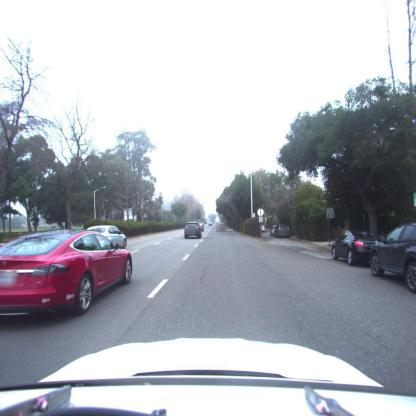car: (0, 229, 137, 320), (330, 230, 381, 266), (87, 225, 126, 252), (184, 223, 203, 239), (271, 226, 291, 238)
truck: (370, 223, 416, 294)
